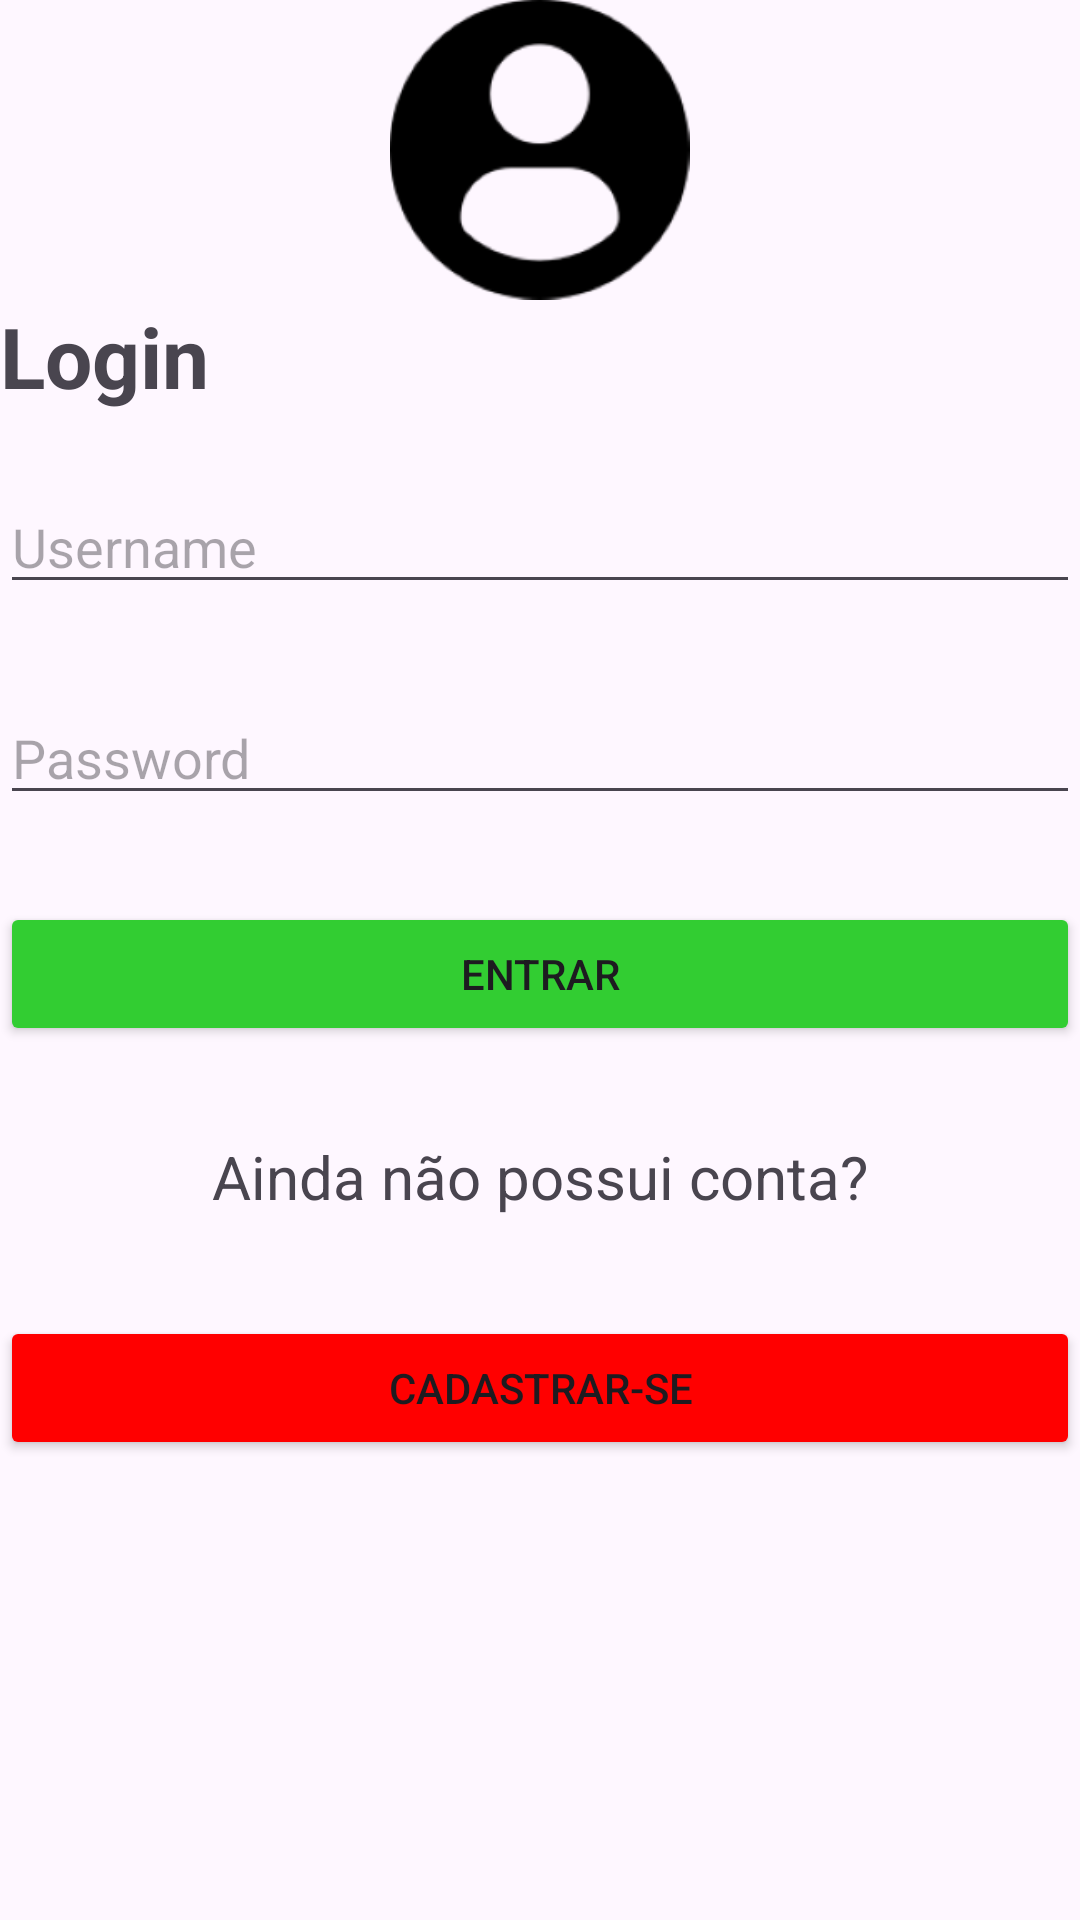

Icon bounding boxes for this 1080 × 1920 phone screenshot, format rect(x1, y1, x2, y2):
Imagem de perfil: rect(390, 0, 690, 300)
